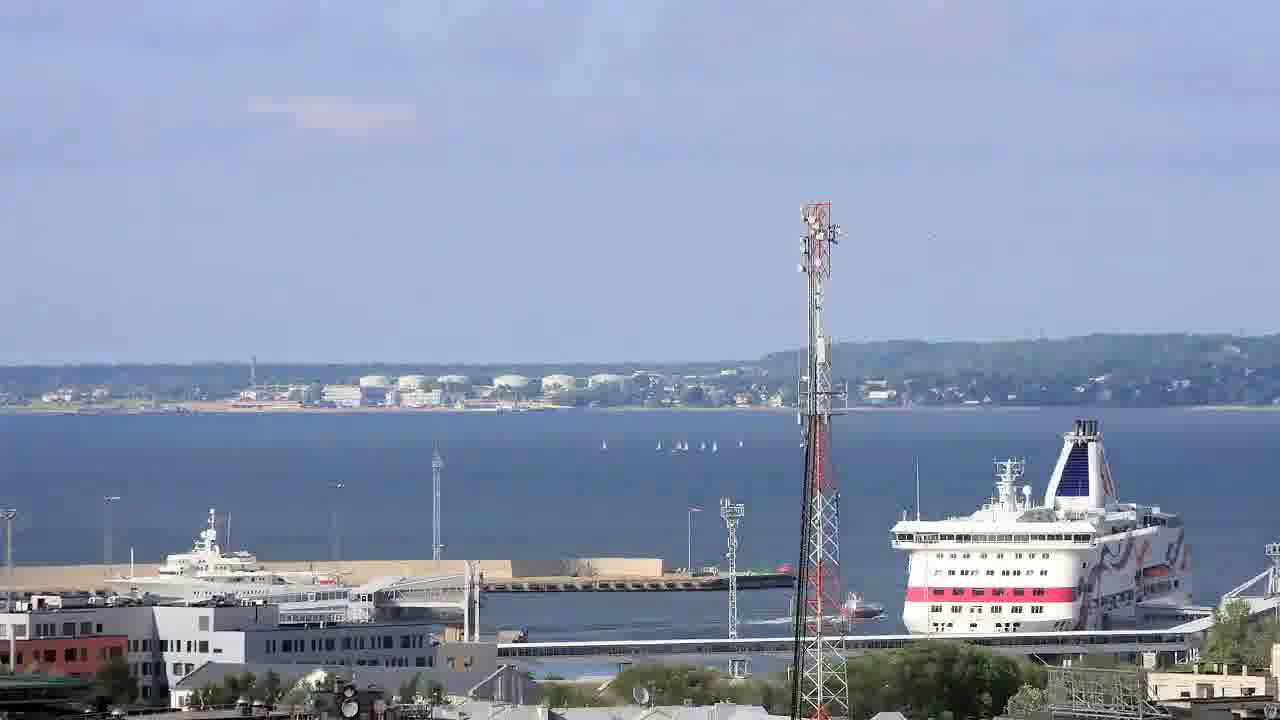type-0: (829, 585, 885, 639)
type-3: (868, 415, 1225, 638), (84, 537, 359, 610)
